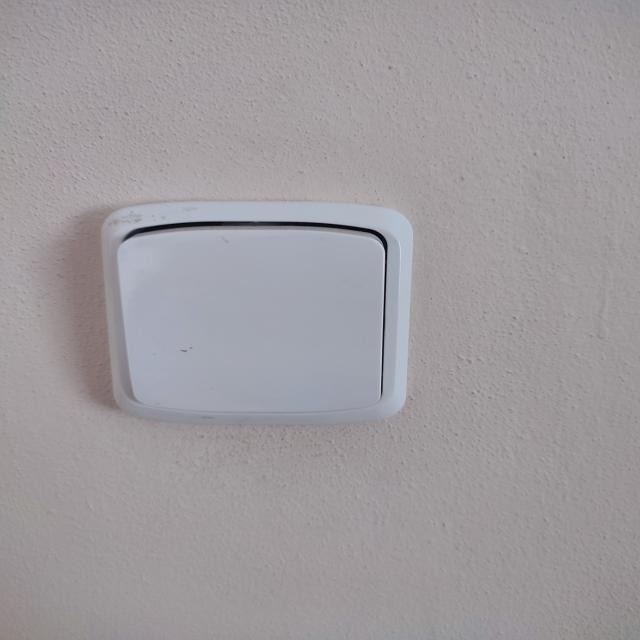house switch: (102, 198, 415, 426)
